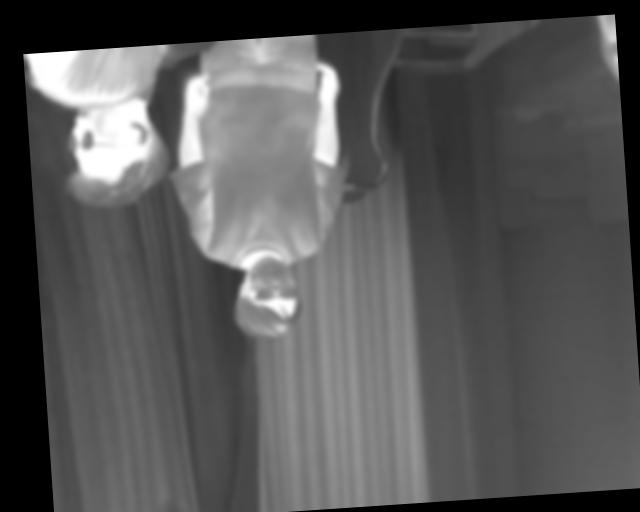face: (231, 253, 304, 341)
